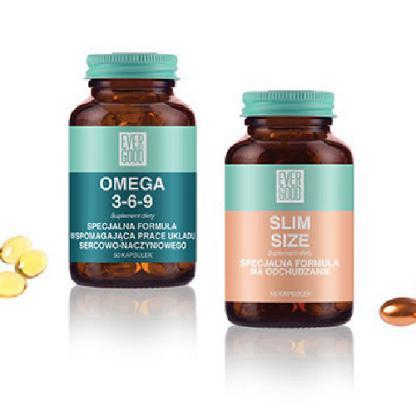jar: (67, 52, 198, 288), (224, 92, 353, 327)
